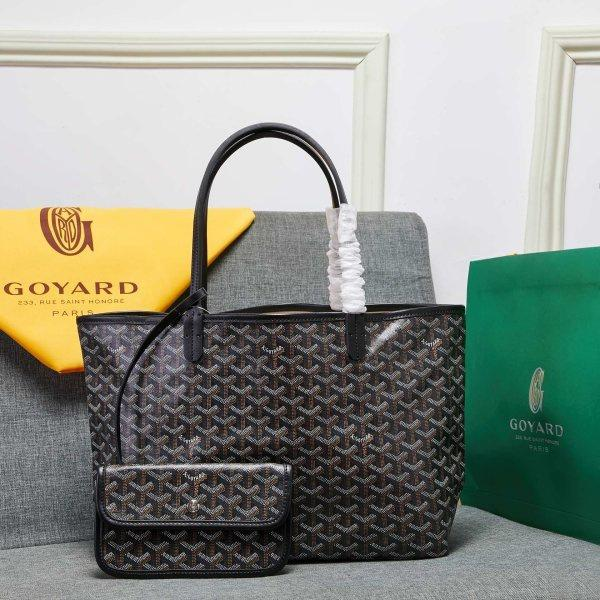GOYARD: (77, 314, 465, 556), (100, 465, 287, 572)
